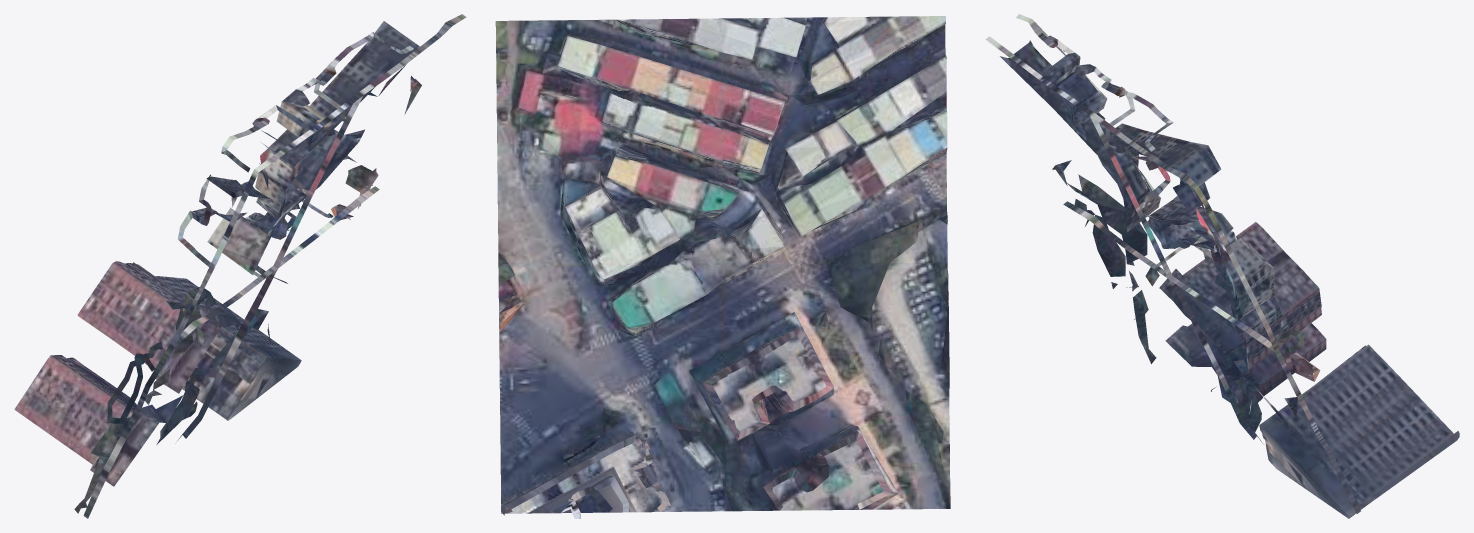
3 views of the same model, side by side, from view 1: azimuth 30°, elevation 25°; view 2: azimuth 150°, elevation 25°; view 3: azimuth 270°, elevation 25° (orthographic). The views are drawn at different scales.
Bounding box in the file's own units: 156 × 147 × 161.
Materials: 1 (1 with a texture image).
